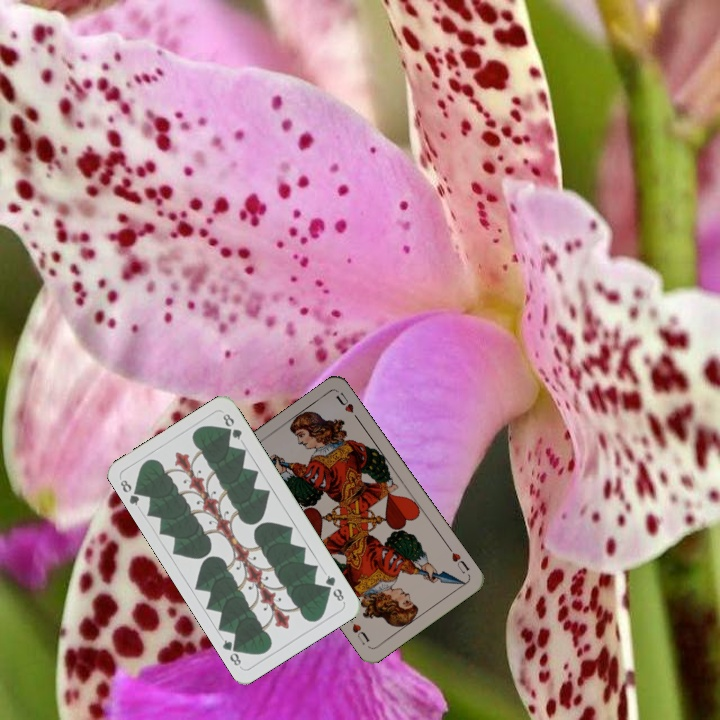G8: (116, 475, 145, 508), (321, 571, 347, 605)
HU: (444, 542, 472, 576)
